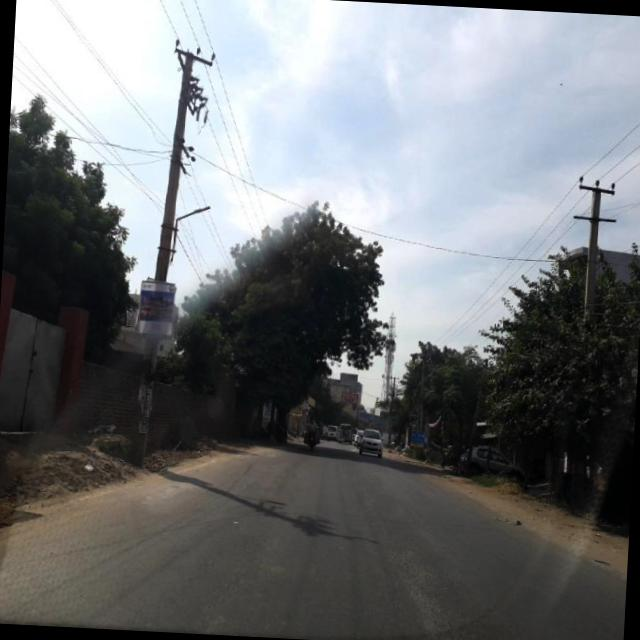crack: (370, 541, 488, 637)
